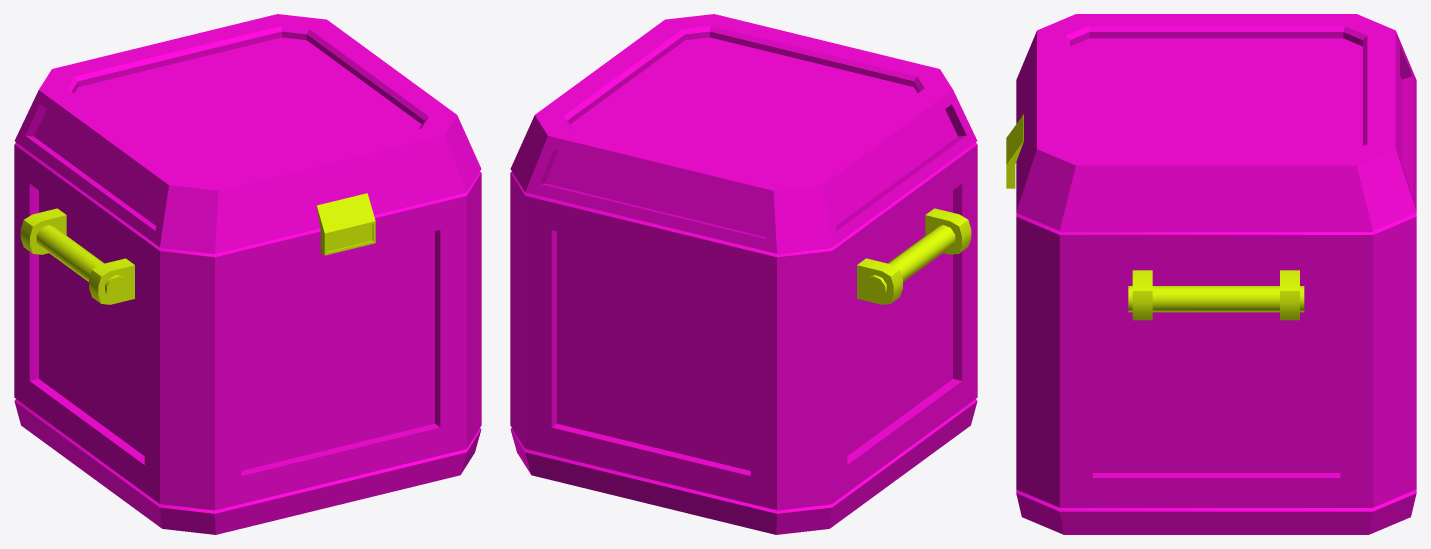
File: MetalCrate.fbx
3 views of the same model, side by side, from view 1: azimuth 30°, elevation 25°; view 2: azimuth 150°, elevation 25°; view 3: azimuth 270°, elevation 25° (orthographic). The views are drawn at different scales.
Parts seen in each view (by area): view 1: Crate_Body, Latch; view 2: Crate_Body, Latch; view 3: Crate_Body, Latch.
Part boxes in pixels (x1,y1,x2,y2): Crate_Body: (14,14,481,534); Latch: (20,193,375,304); Crate_Body: (510,14,977,534); Latch: (857,208,971,304); Crate_Body: (1016,14,1416,534); Latch: (1006,114,1304,320).
Size of the model in its own units: 1.78 by 1.56 by 1.52.
